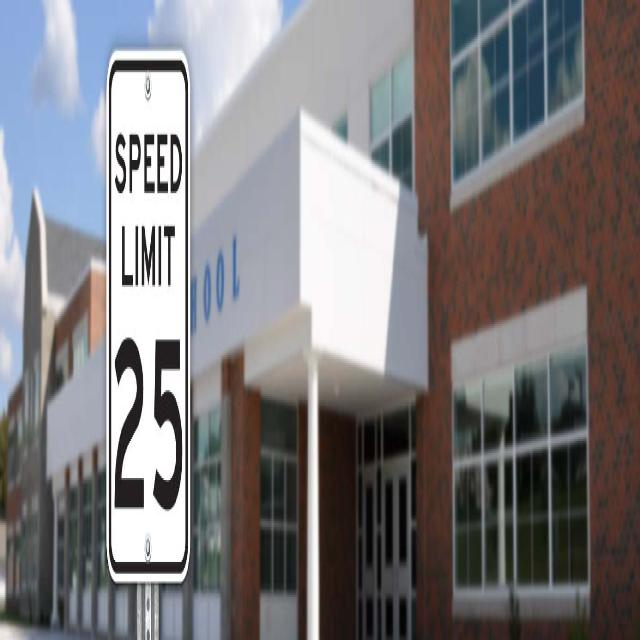speedLimit25: (103, 62, 190, 574)
